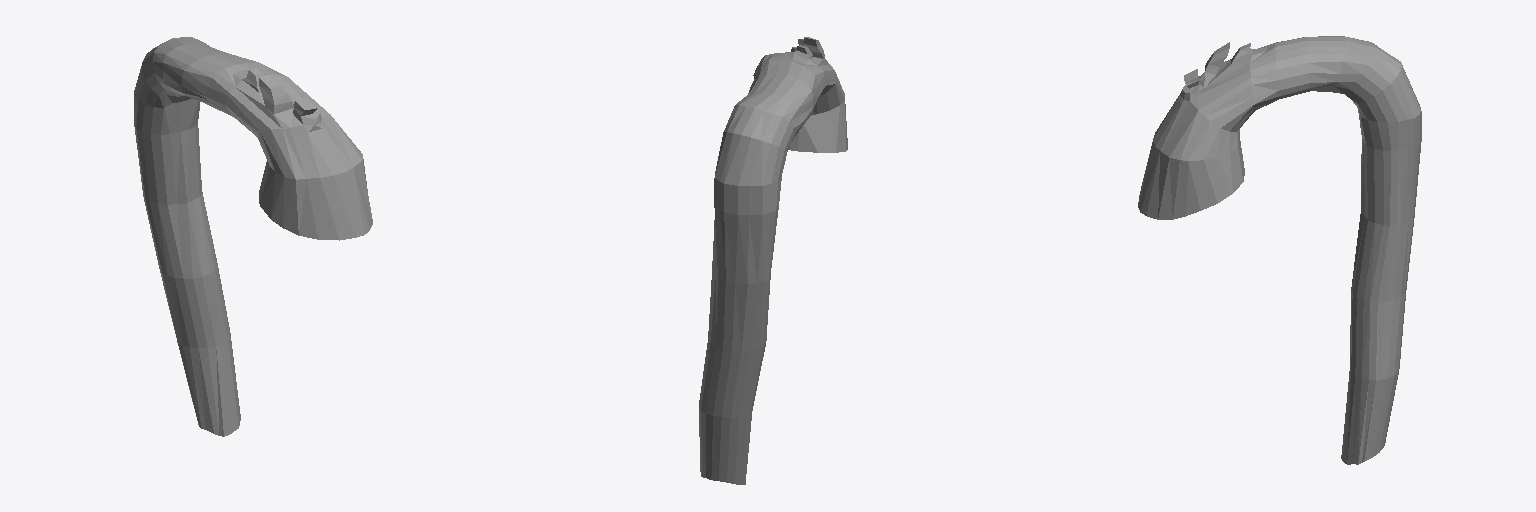
File: artere.obj
The picture shows the model from 3 angles: view 1: azimuth 30°, elevation 25°; view 2: azimuth 150°, elevation 25°; view 3: azimuth 270°, elevation 25°; orthographic projection.
Size of the model in its own units: 0.5268 by 1.59 by 1.01.